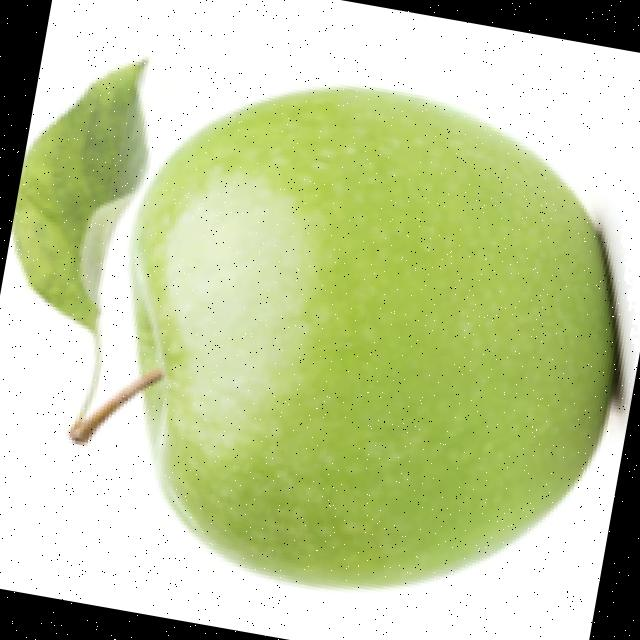apple: (8, 54, 640, 595)
